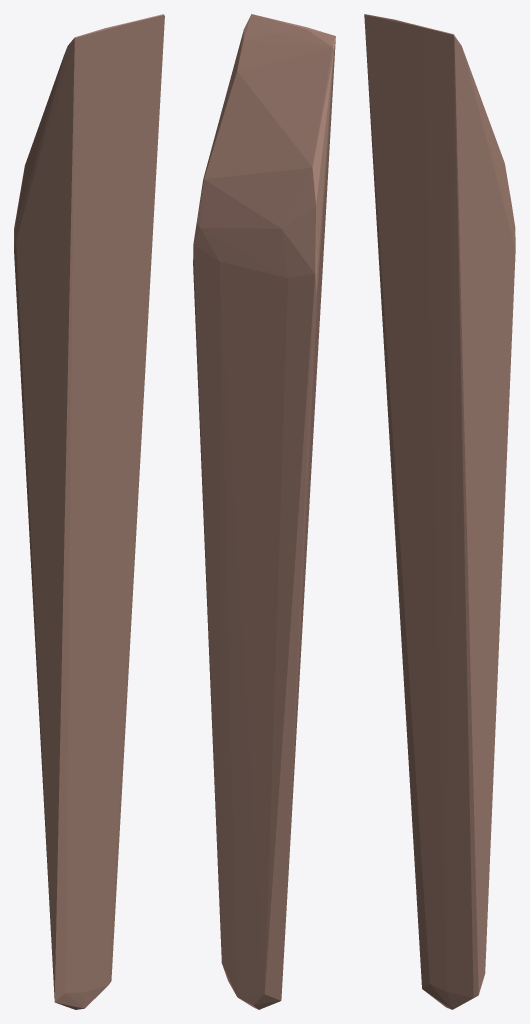
Rendered from kitchenware_fork_f01.glb.
3 renders of one model, left to right at view 1: azimuth 30°, elevation 25°; view 2: azimuth 150°, elevation 25°; view 3: azimuth 330°, elevation 25°, orthographic. The views are drawn at different scales.
Visible parts, largest first — view 1: geometry_0; view 2: geometry_0; view 3: geometry_0.
Part boxes in pixels (<box>): geometry_0: <box>14,14,164,1009</box>; geometry_0: <box>193,14,335,1009</box>; geometry_0: <box>364,14,515,1009</box>.
Size of the model in its own units: 0.0645 by 0.48 by 0.0369.
